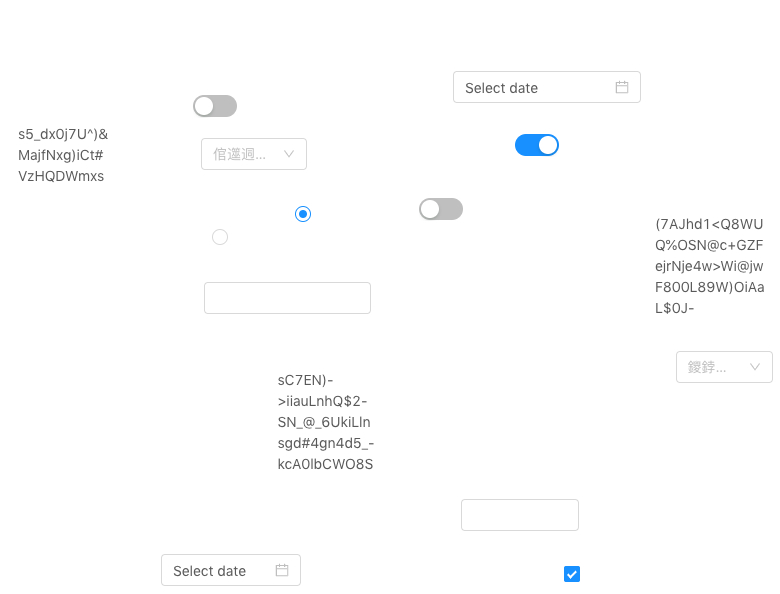Checkbox: (564, 563, 580, 584)
DatePicker: (453, 71, 641, 103), (161, 554, 301, 586)
Input: (204, 282, 371, 314), (461, 499, 579, 531)
Radio: (295, 203, 311, 223), (212, 226, 228, 246)
Select: (201, 138, 307, 170), (676, 351, 773, 383)
Switch: (515, 133, 559, 157), (419, 197, 463, 221), (193, 94, 237, 118)
Text: (655, 213, 767, 323), (278, 369, 377, 477), (18, 123, 110, 189)
